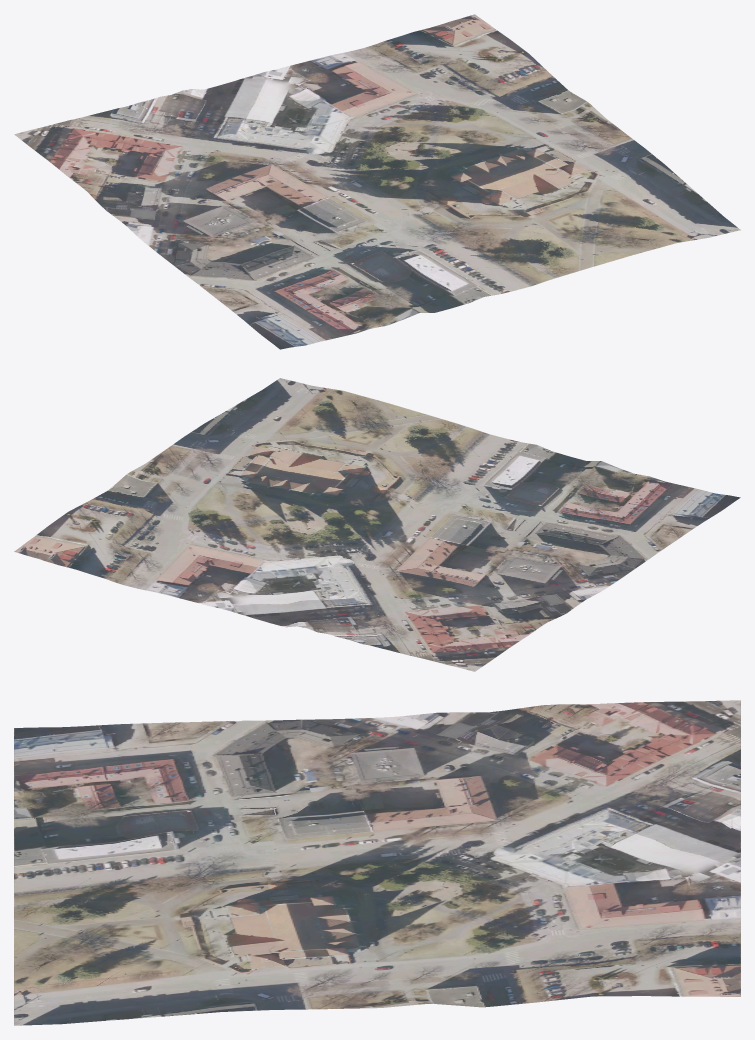
The model's file is CM_Terrain_24487592_6821432.fbx.
3 views of the same model, one above another, from view 1: azimuth 30°, elevation 25°; view 2: azimuth 150°, elevation 25°; view 3: azimuth 270°, elevation 25° (orthographic). The views are drawn at different scales.
Visible parts, largest first — view 1: CM_Terrain_24487592_6821432_LOD0; view 2: CM_Terrain_24487592_6821432_LOD0; view 3: CM_Terrain_24487592_6821432_LOD0.
Part boxes in pixels (bbox=[...]): CM_Terrain_24487592_6821432_LOD0: bbox=[14, 14, 740, 349]; CM_Terrain_24487592_6821432_LOD0: bbox=[14, 378, 740, 671]; CM_Terrain_24487592_6821432_LOD0: bbox=[14, 700, 740, 1025].
Size of what is drawn, in the model's own units: 205 by 13.38 by 205.
